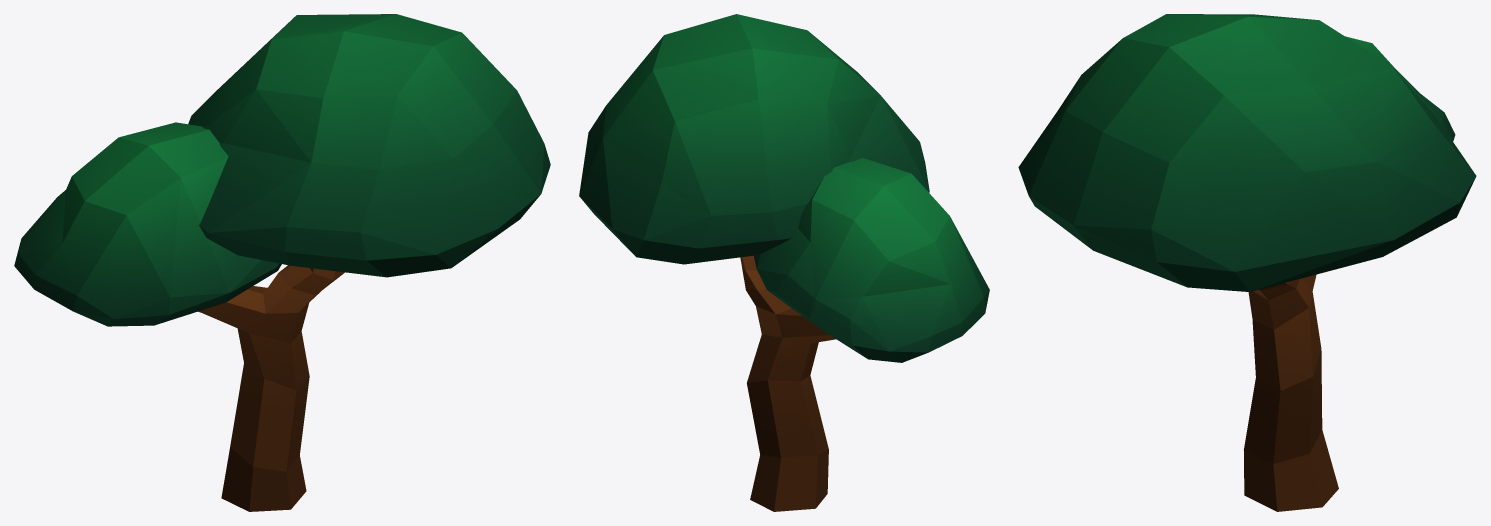
The model's file is Tree11.fbx.
3 renders of one model, left to right at view 1: azimuth 30°, elevation 25°; view 2: azimuth 150°, elevation 25°; view 3: azimuth 270°, elevation 25°, orthographic. The views are drawn at different scales.
Parts seen in each view (by area): view 1: tree_C2; view 2: tree_C2; view 3: tree_C2.
Boxes of the visible parts, x1,y1,x2,y2 form: tree_C2: [14, 14, 550, 511]; tree_C2: [579, 14, 989, 511]; tree_C2: [1018, 14, 1476, 511].
Size of the model in its own units: 325 by 316 by 258.
